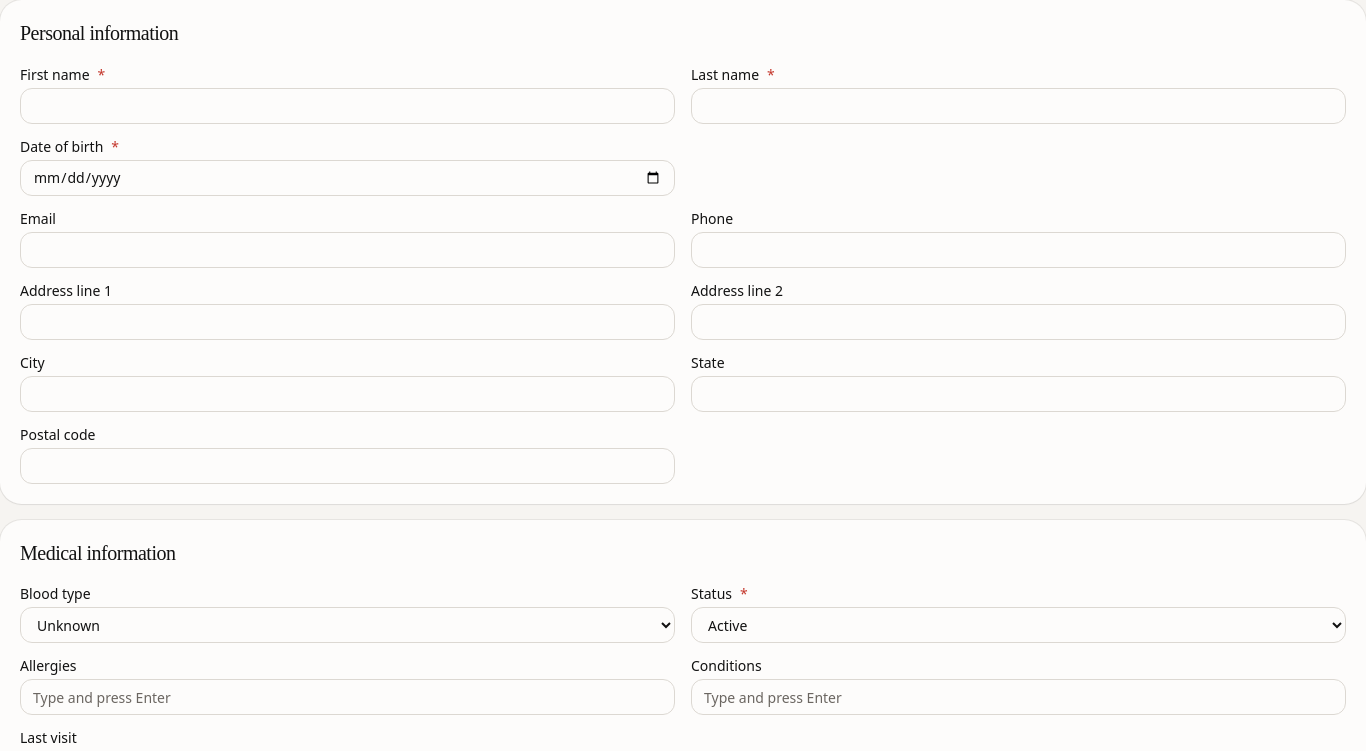
Test: PatientForm (create) › Email "not-an-email" shows "Enter a valid email address" on blur
This screenshot has width=1366, height=751.
Type "not-an-email" into the field labelled "Email" at (348, 250), box [20, 232, 675, 268]
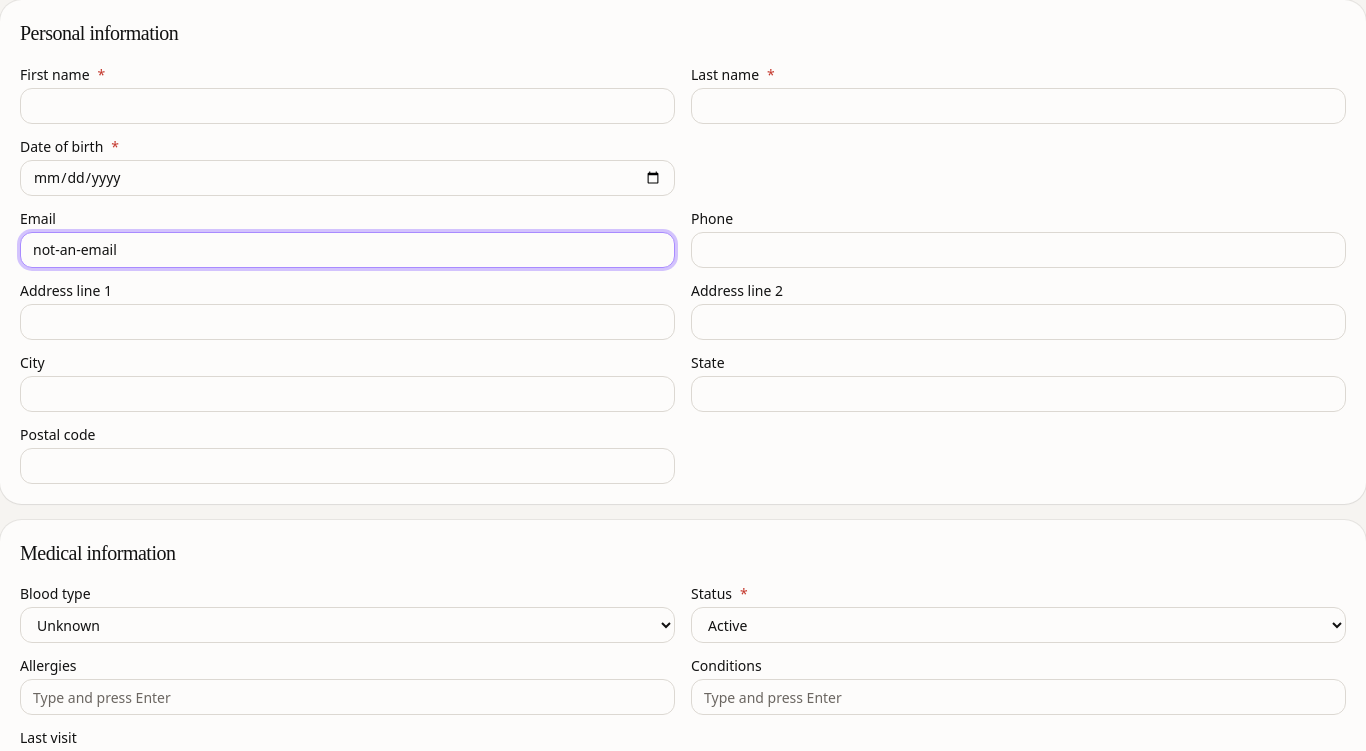
Press Tab
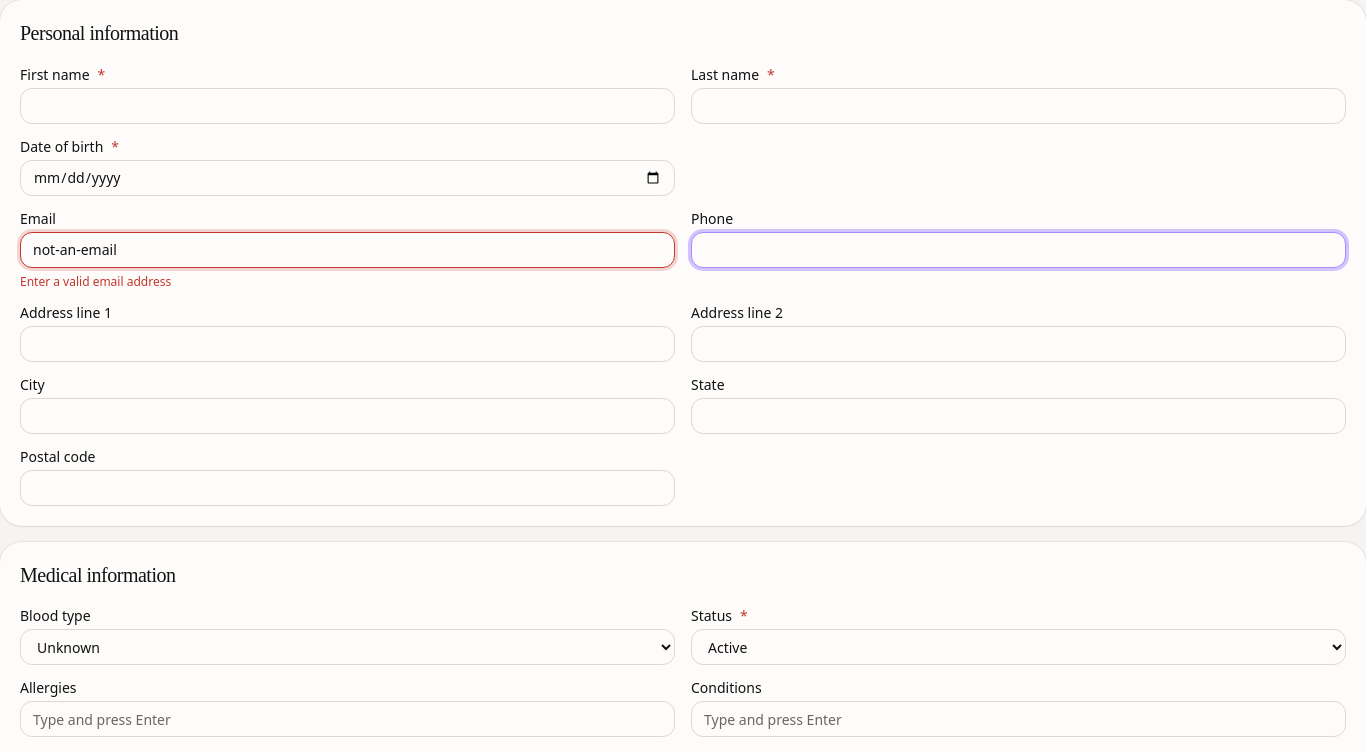
Expected: the text "Enter a valid email address" is shown, [20, 272, 171, 290]
